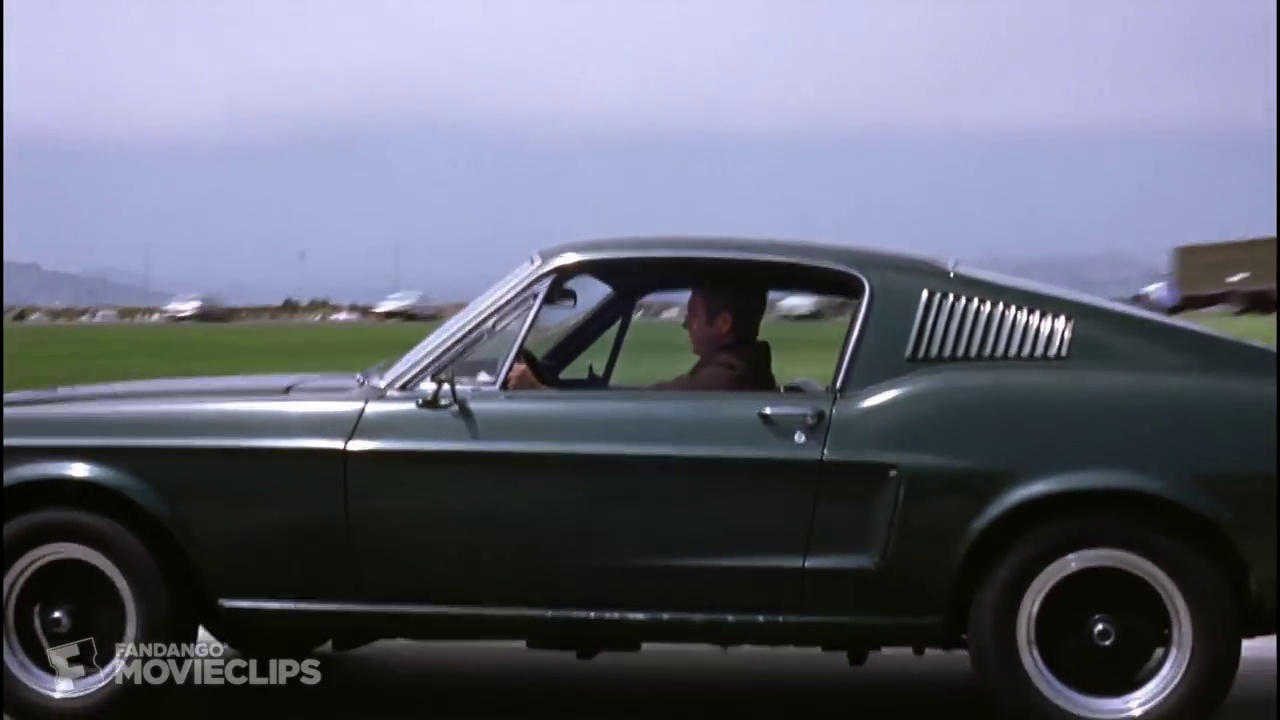car: (1, 231, 1280, 717), (359, 279, 450, 328), (150, 282, 230, 335)
person: (662, 264, 783, 396)
truck: (1112, 231, 1280, 323)
